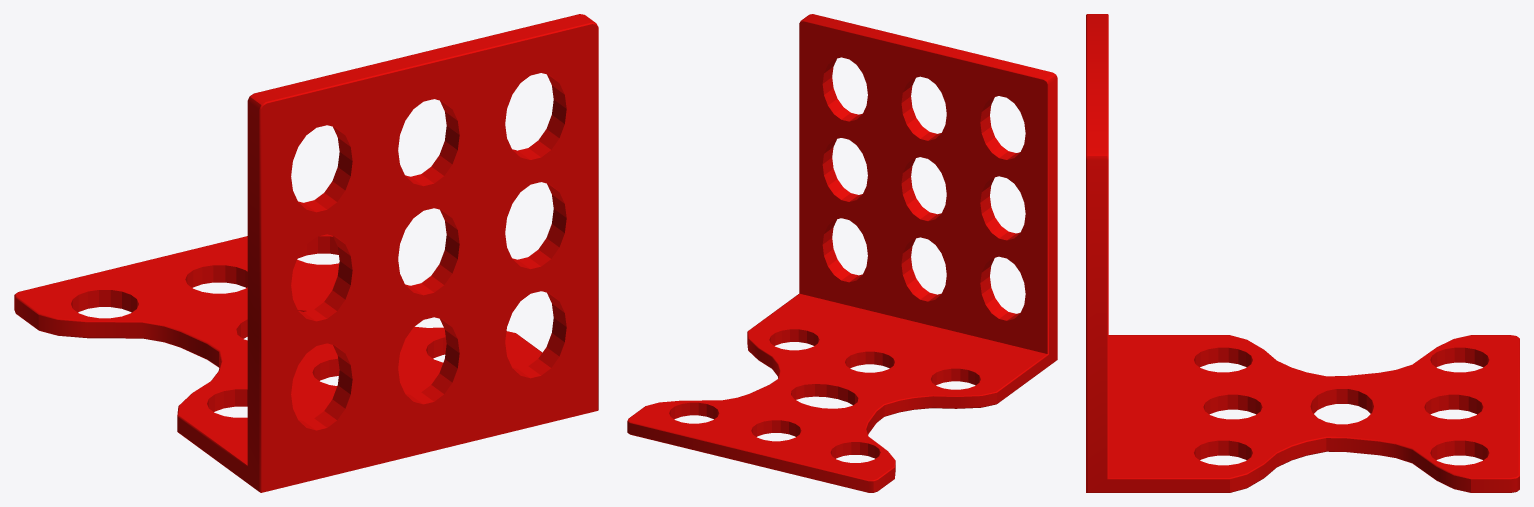
Rendered from TTMotorBracket.glb.
3 views of the same model, side by side, from view 1: azimuth 30°, elevation 25°; view 2: azimuth 150°, elevation 25°; view 3: azimuth 270°, elevation 25° (orthographic). The views are drawn at different scales.
Visible parts, largest first — view 1: TT Motor Bracket; view 2: TT Motor Bracket; view 3: TT Motor Bracket.
Part boxes in pixels (box(x1,y1,x2,y2)): TT Motor Bracket: box(14, 14, 598, 492); TT Motor Bracket: box(627, 14, 1057, 492); TT Motor Bracket: box(1086, 14, 1519, 492).
Bounding box in the file's own units: 0.3434 × 0.3766 × 0.4378.
